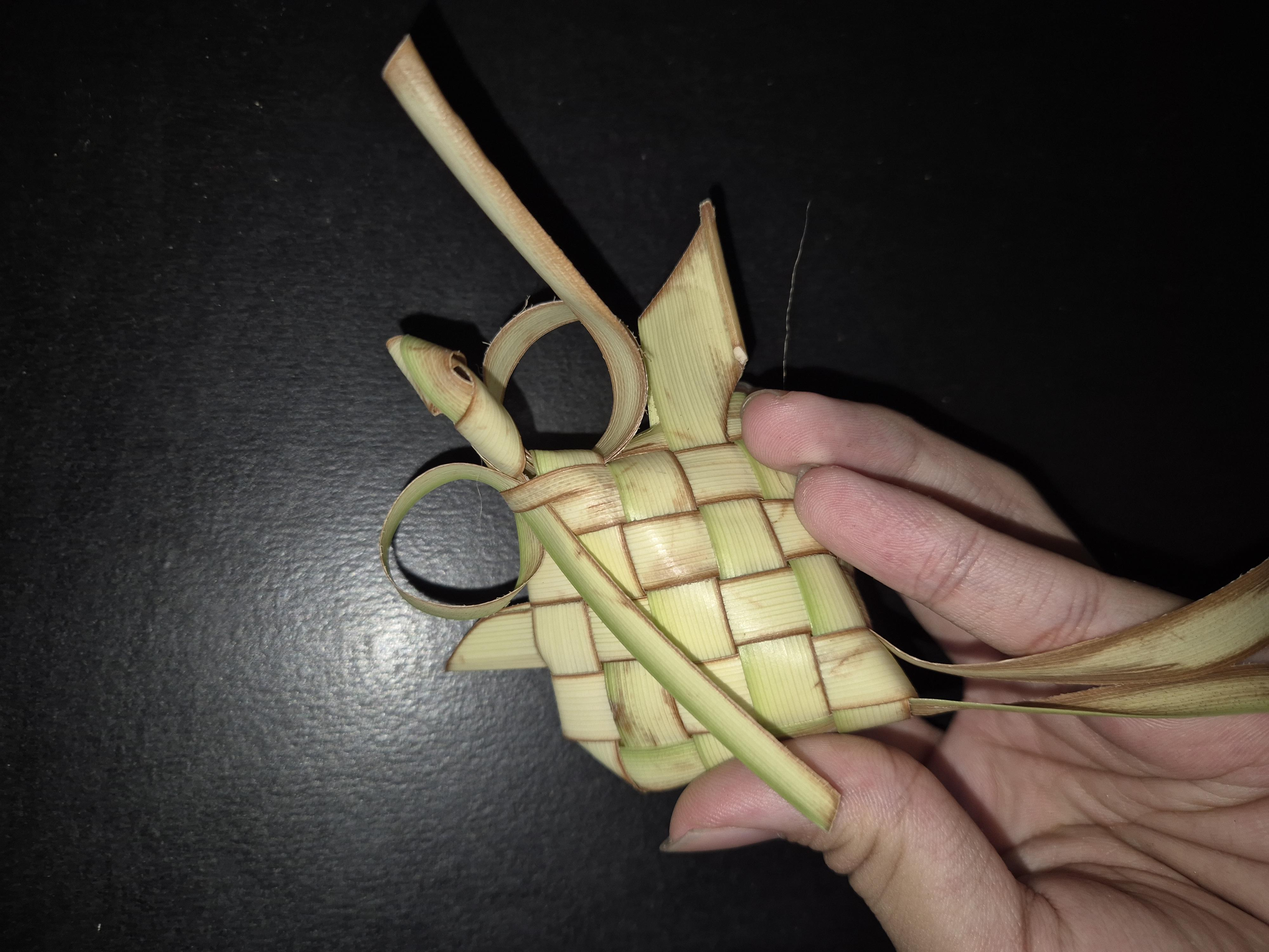Tipat Dampulan: (217, 285, 996, 687)
